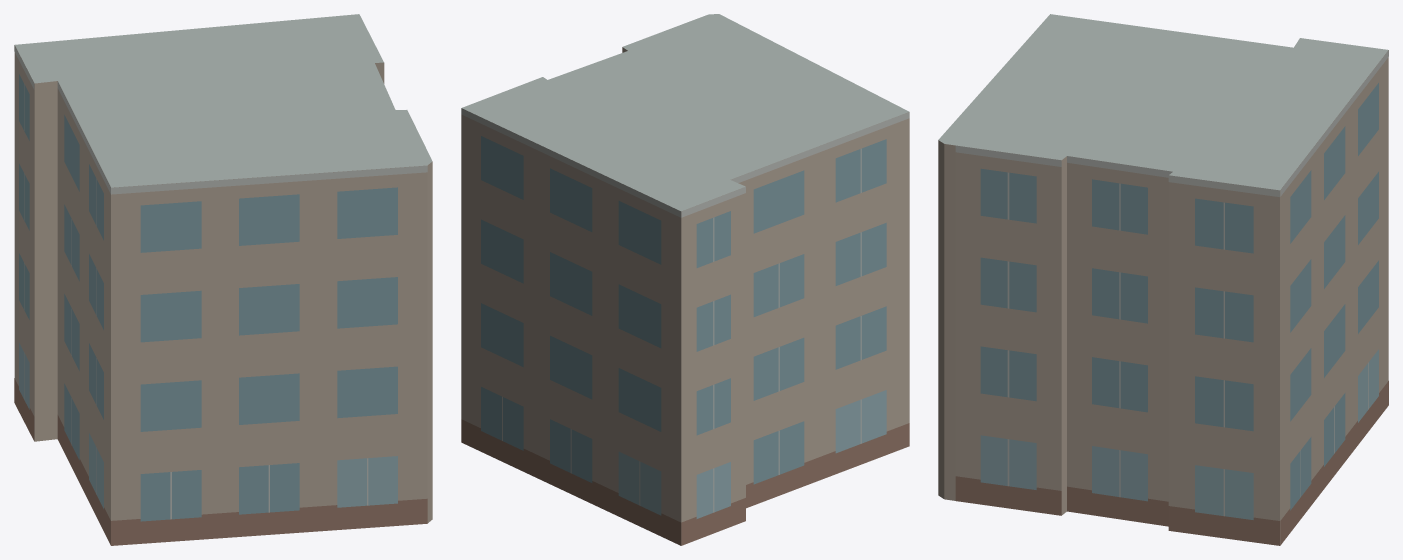
The model's file is survey-upis-32471127.glb.
3 renders of one model, left to right at view 1: azimuth 30°, elevation 25°; view 2: azimuth 150°, elevation 25°; view 3: azimuth 270°, elevation 25°, orthographic. The views are drawn at different scales.
Visible parts, largest first — view 1: survey-upis-32471127.tmp; view 2: survey-upis-32471127.tmp; view 3: survey-upis-32471127.tmp.
Part boxes in pixels (x1,y1,x2,y2): survey-upis-32471127.tmp: [14, 14, 432, 545]; survey-upis-32471127.tmp: [461, 14, 909, 545]; survey-upis-32471127.tmp: [938, 14, 1388, 545].
Size of the model in its own units: 13.52 by 12.7 by 14.59.
